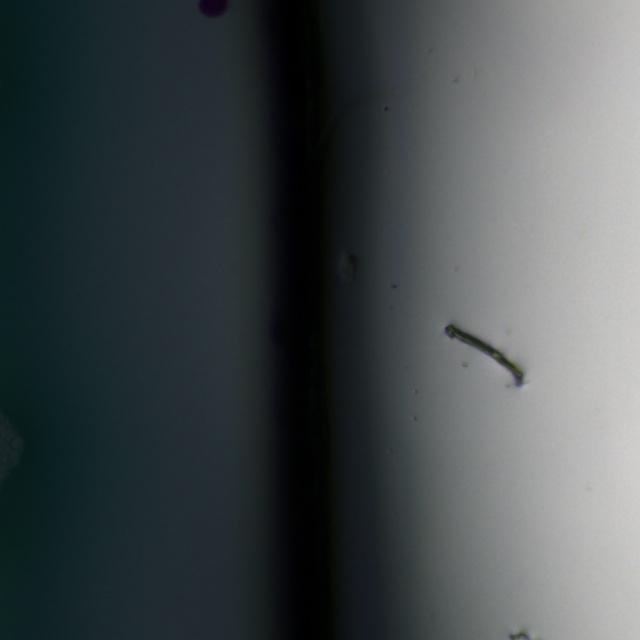viable: (199, 0, 226, 16)
